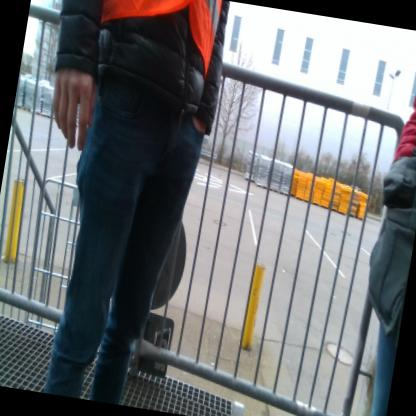pallet: (20, 104, 32, 114), (31, 107, 42, 117), (38, 111, 51, 119), (13, 101, 23, 110)
